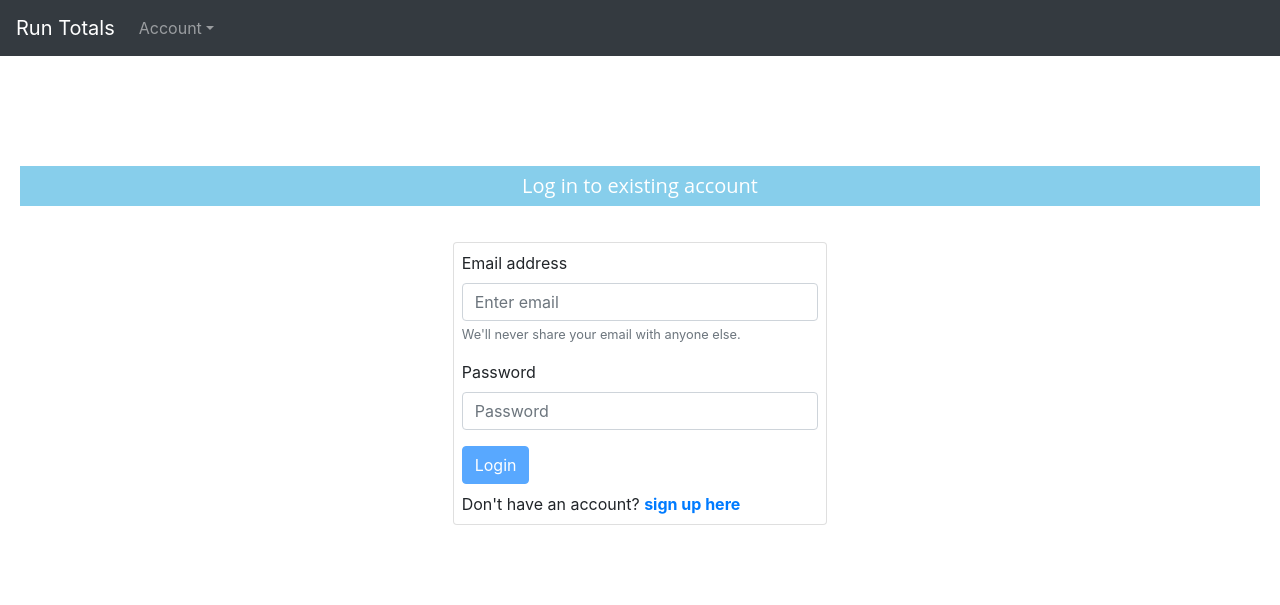
Login page tests › Server side validation › should show server error message
Type "valid@email.com" into the field with test id "email-input" at [640, 302], box [462,283,818,321]
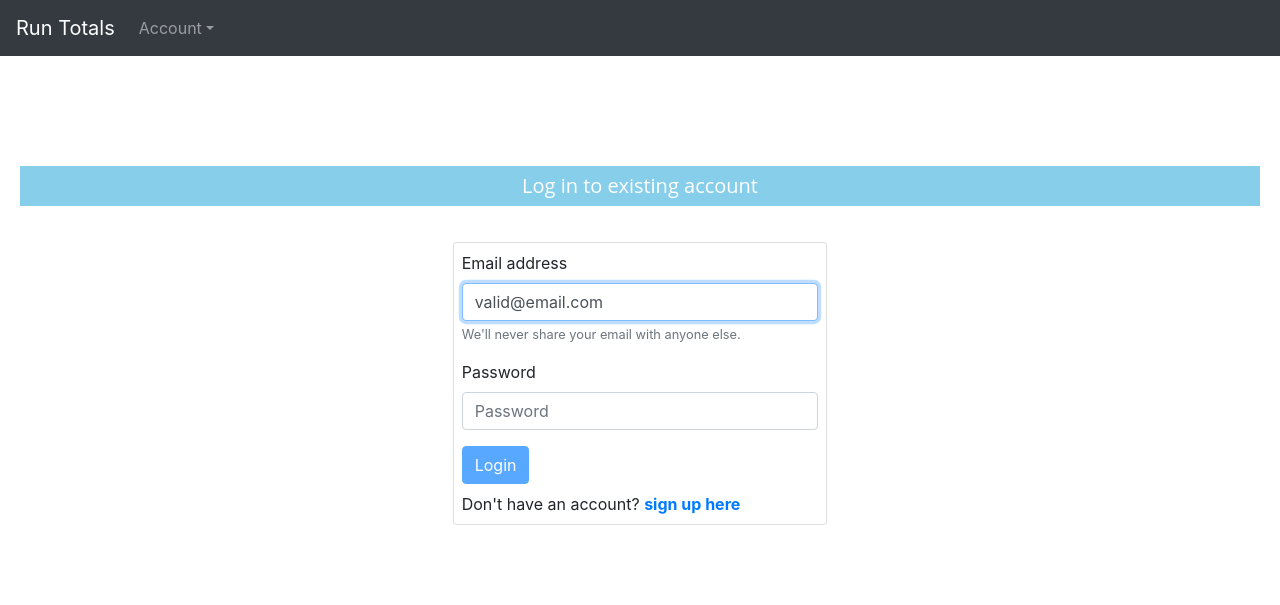
Type "validPassw0rd" into the password field with test id "password-input" at [640, 411], box [462,392,818,430]
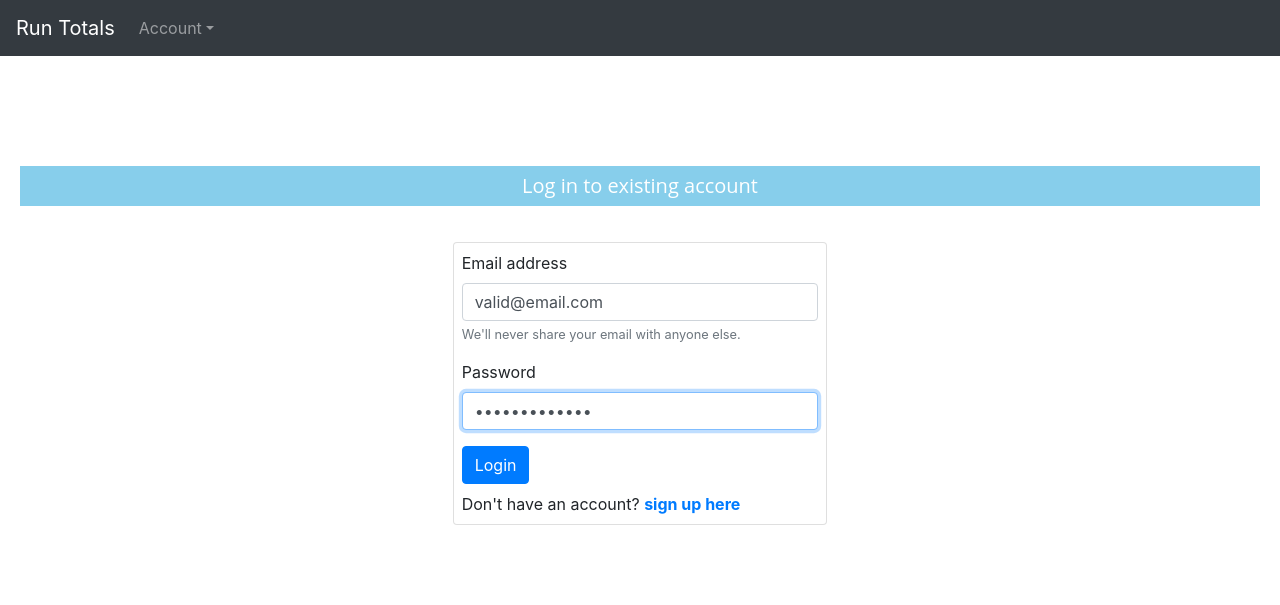
Click the button "Login" at [496, 465], box [462,446,530,484]
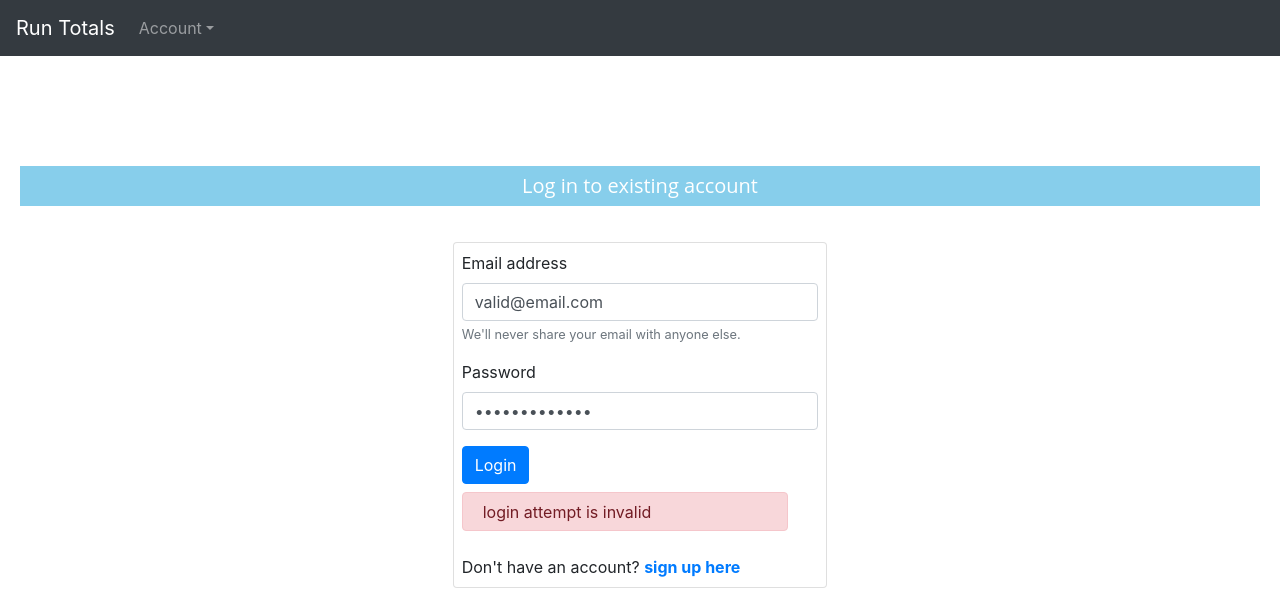
Expected: the message "login attempt is invalid" is shown, [462,492,788,531]
Expected: the message reads "login attempt is invalid", [483,502,651,522]
